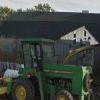Tractor: (9, 30, 100, 100)
